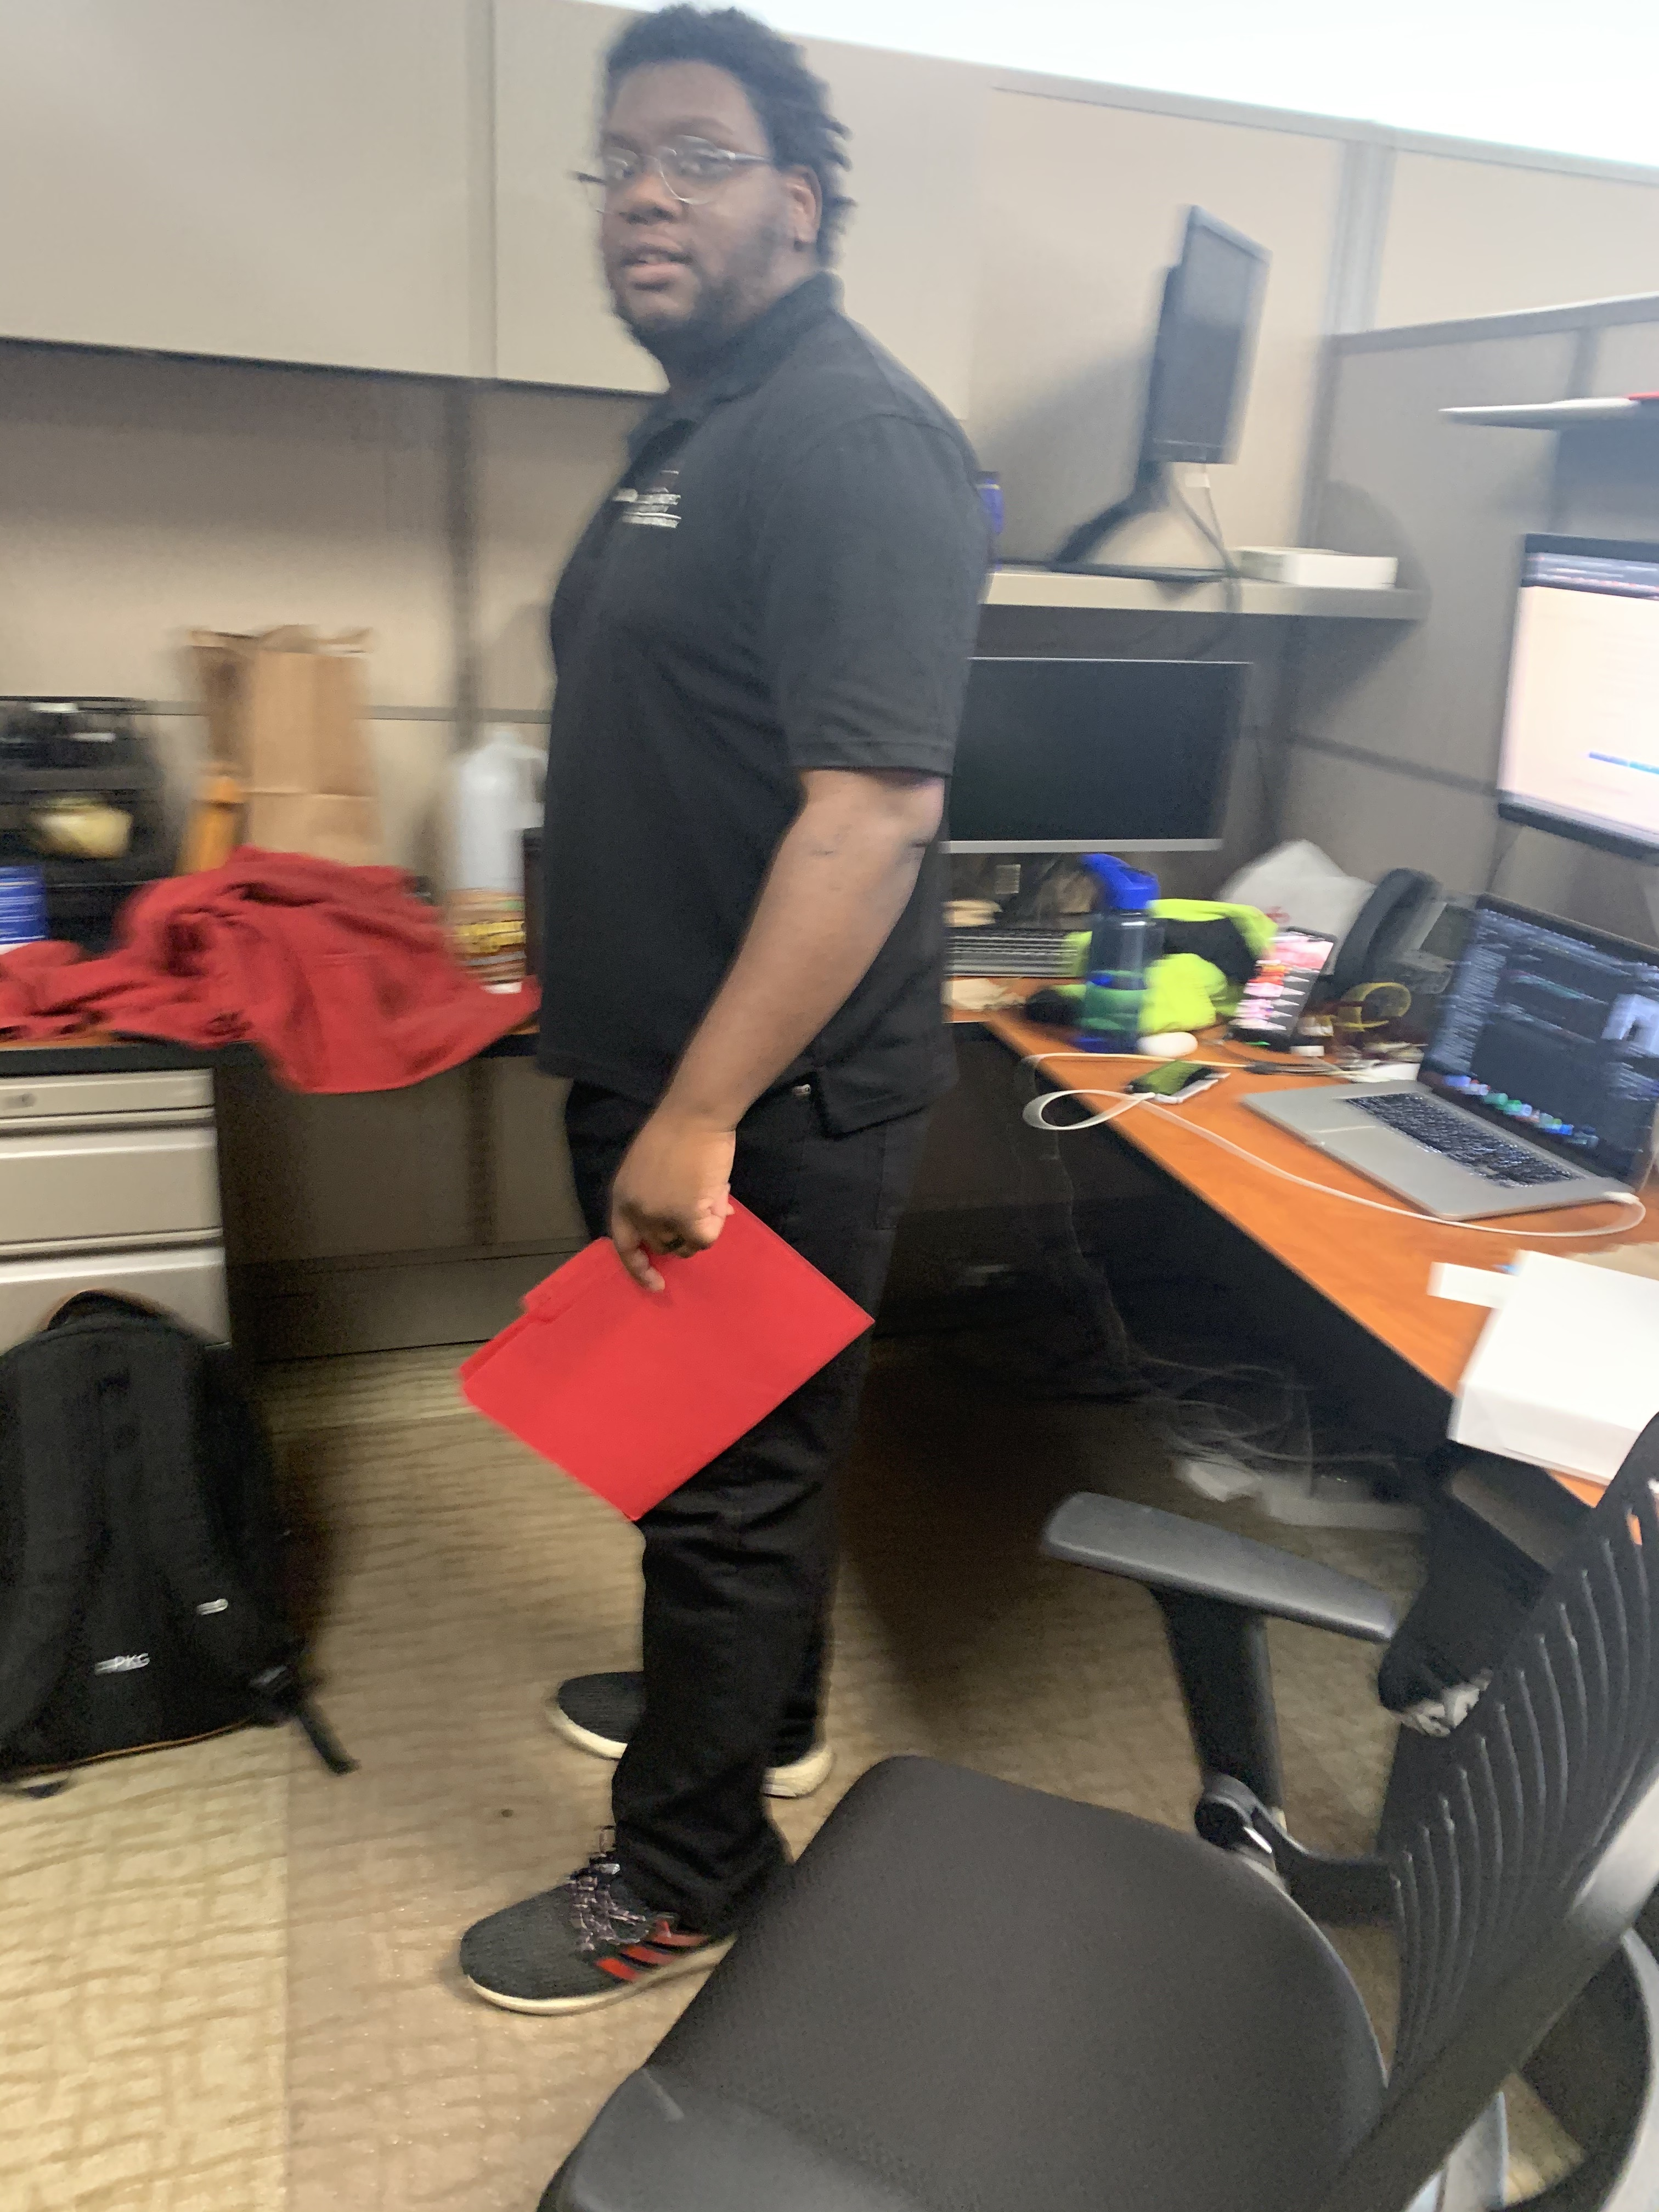red folder: (444, 1188, 894, 1531)
